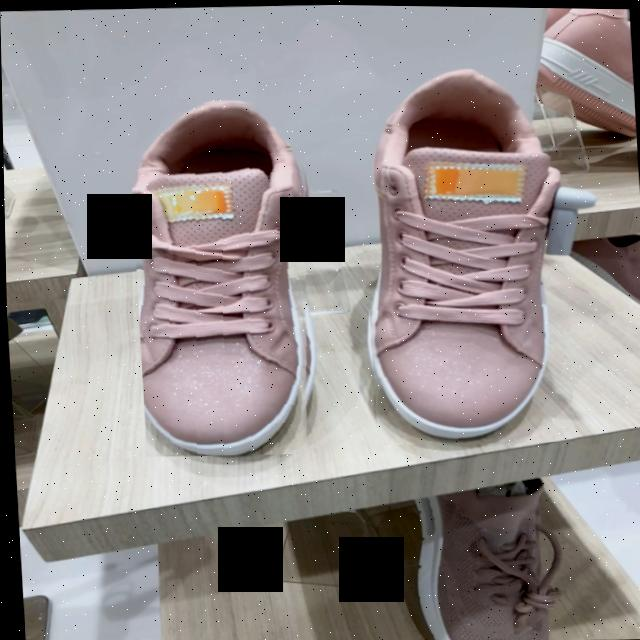shoe: (369, 70, 559, 442), (131, 103, 305, 455)
